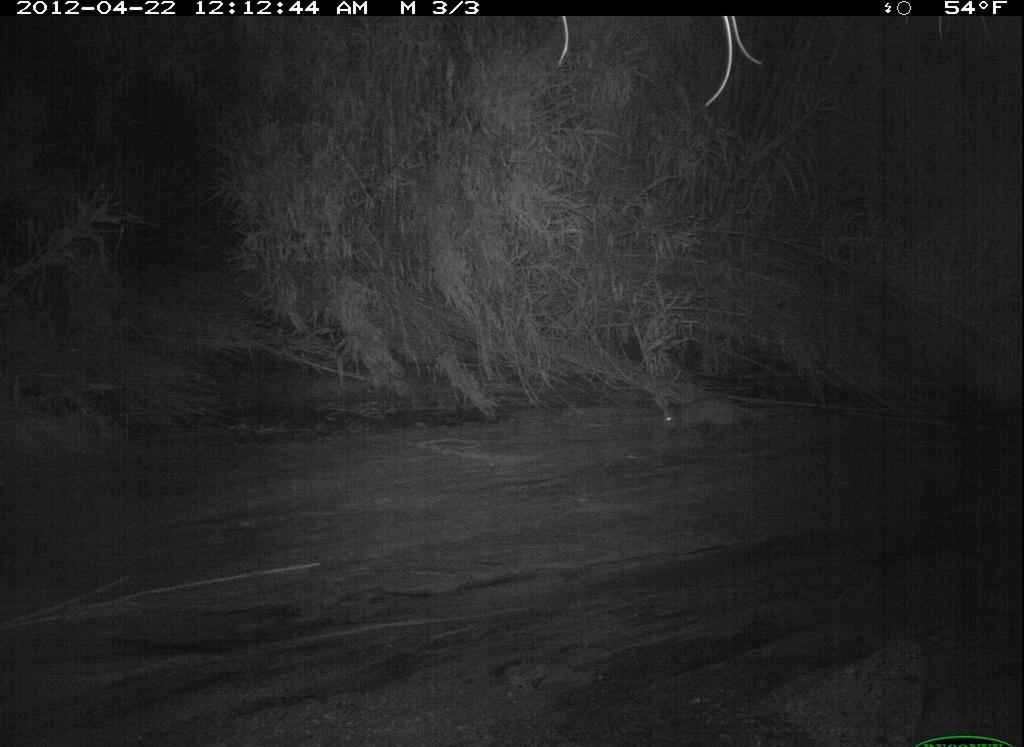opossum: (651, 391, 784, 447)
